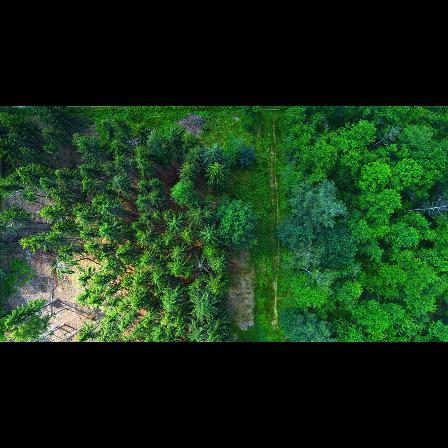Dead: (173, 115, 210, 145), (404, 199, 448, 222)
Sick: (189, 254, 212, 275)
